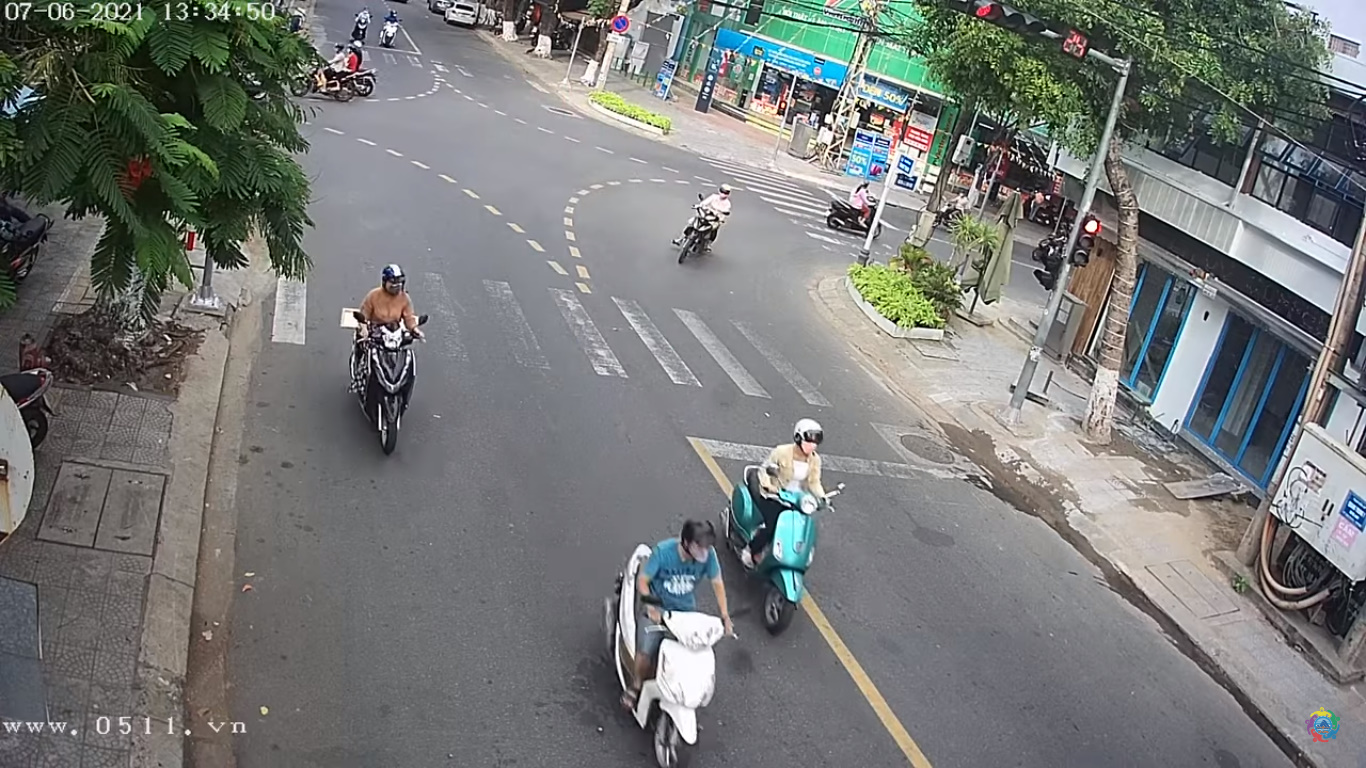motorbike: (607, 529, 748, 768), (724, 424, 837, 631), (347, 272, 424, 453), (732, 602, 749, 607)
